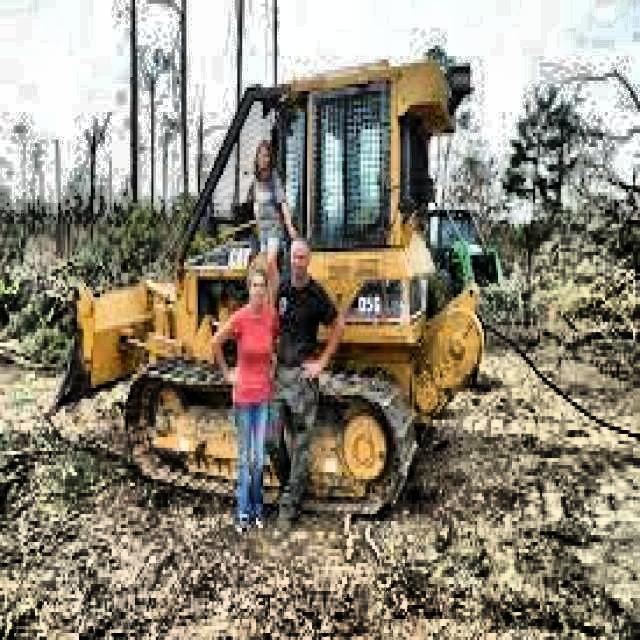bull_dozer/loader/grader: (41, 34, 490, 529)
person: (272, 230, 346, 528), (211, 268, 276, 534), (244, 138, 293, 272)
